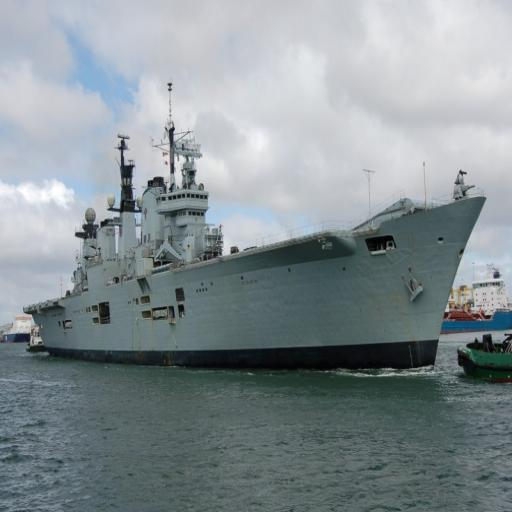Portanaves: (22, 79, 492, 379)
